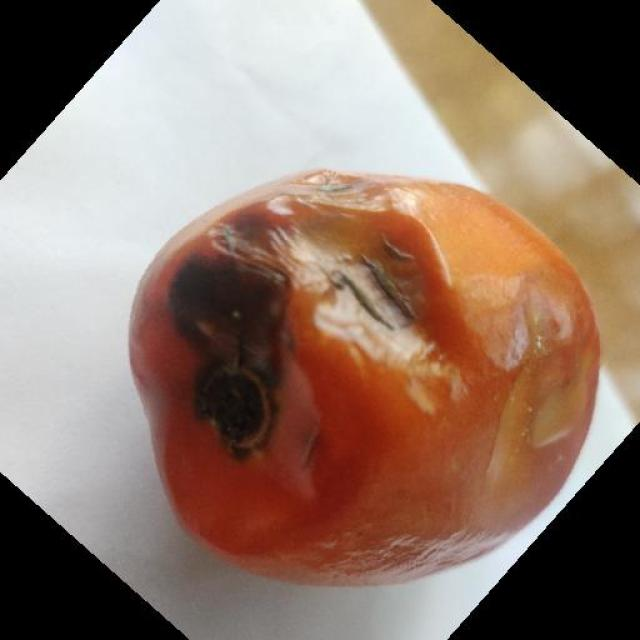Stale_tomato: (125, 158, 604, 590)
